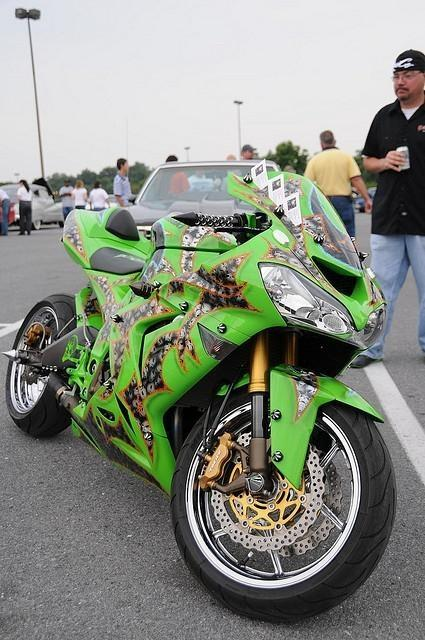car: (128, 160, 286, 223), (2, 182, 64, 231)
motorcycle: (0, 158, 397, 622)
